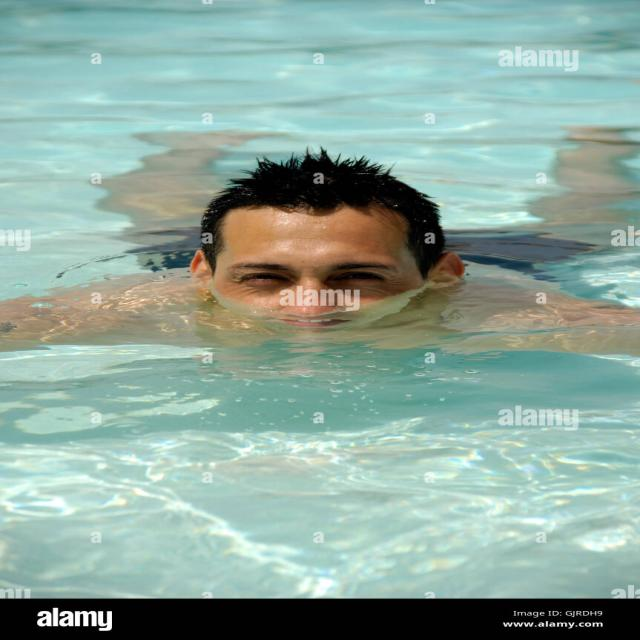swimming: (104, 106, 588, 417)
